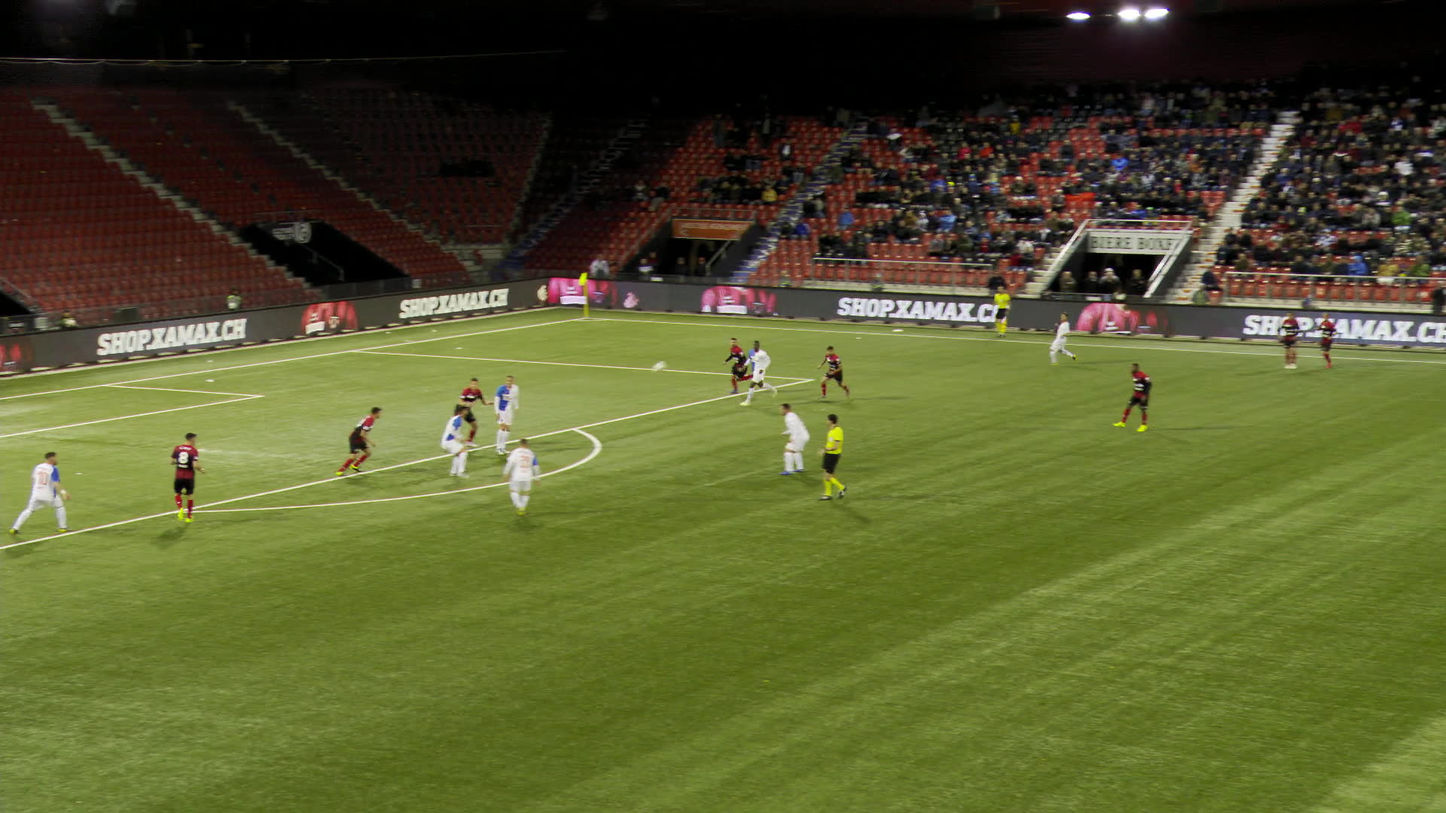ball: (671, 353, 682, 361)
player: (10, 450, 74, 537), (161, 433, 200, 523), (489, 439, 528, 515), (332, 405, 374, 474), (443, 376, 481, 446), (481, 376, 514, 454), (426, 406, 460, 480), (1106, 364, 1142, 431), (734, 341, 770, 406), (766, 402, 798, 475), (808, 345, 844, 400), (716, 336, 747, 392), (1305, 310, 1329, 368), (1044, 311, 1068, 365), (1268, 311, 1289, 368)
referee: (807, 413, 837, 500), (982, 285, 1002, 337)
